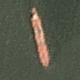ship: (1, 5, 3, 69)
